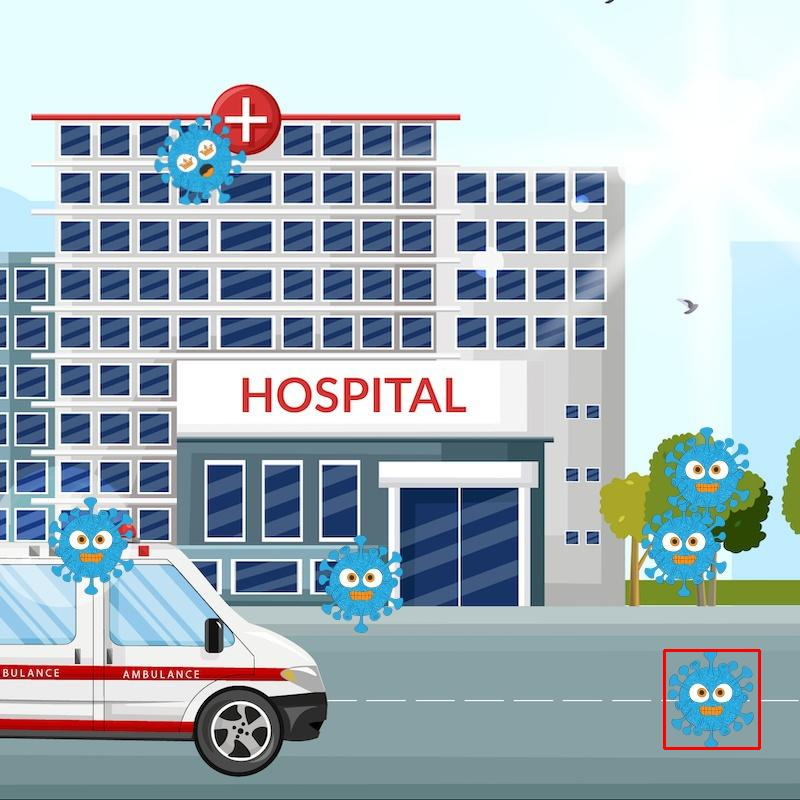corona1: (314, 533, 409, 629), (664, 425, 754, 520), (668, 653, 756, 747), (647, 508, 733, 603), (51, 498, 136, 589)
corona4: (147, 113, 250, 209)
